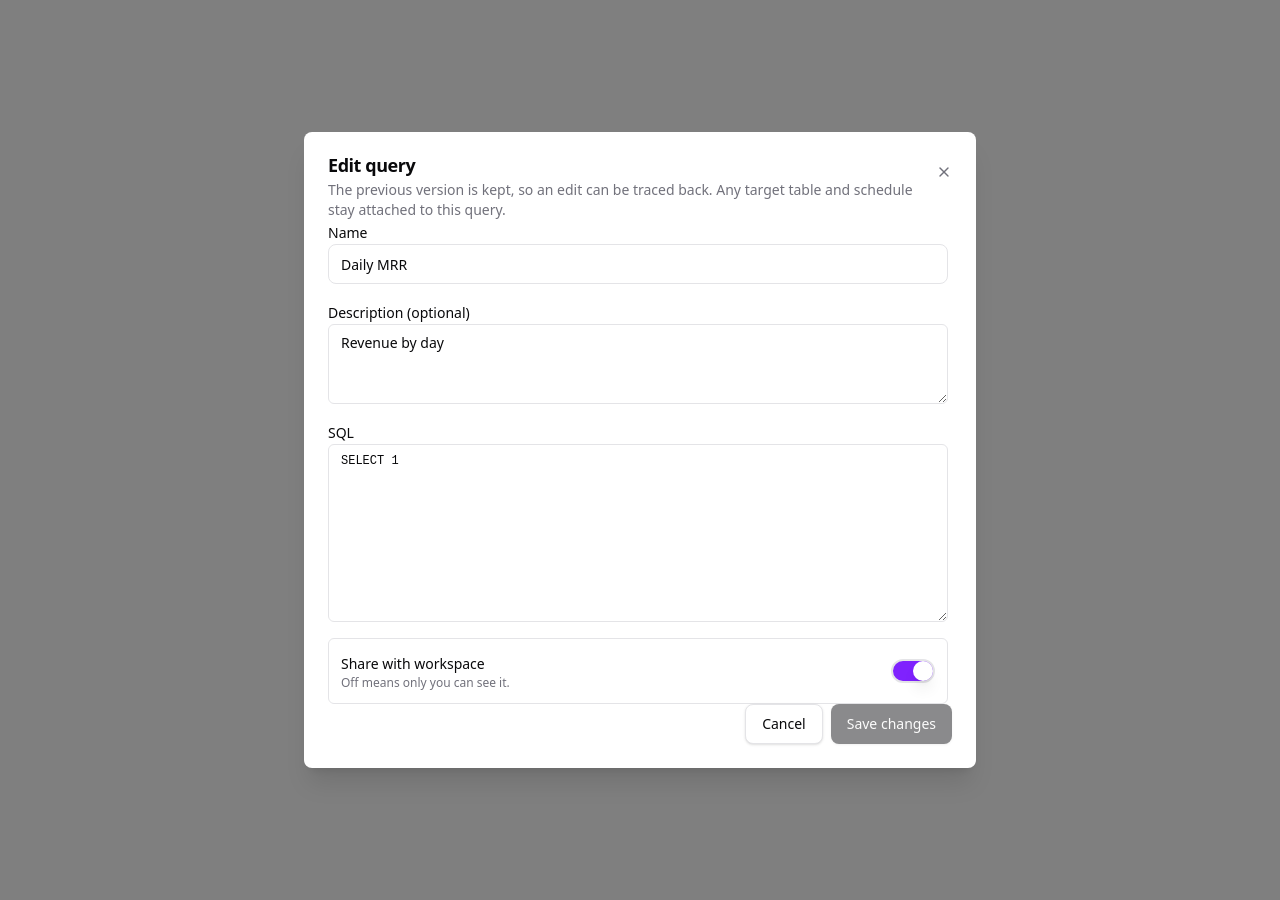
Scenario: SavedQueryEditDialog › says the SQL edit needs approval when the query is on a schedule
Check: the text "this query runs on a schedule" is not shown
Check: the button "Save changes" is shown, box [831,704,952,744]
Type " FROM orders" into the text box labelled "SQL" at point(638, 533), box [328,444,948,622]
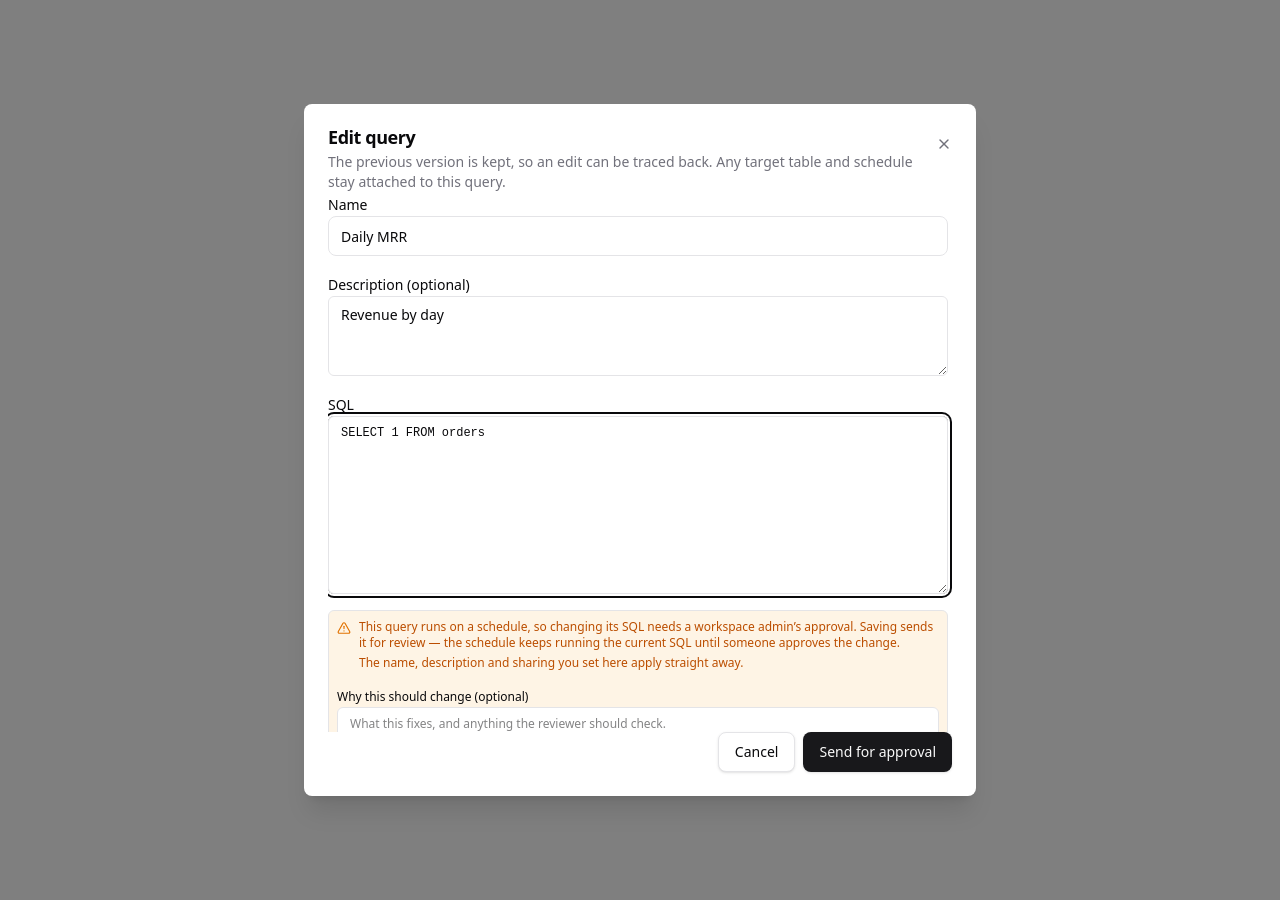
Check: the text "keeps running the current SQL" is shown, box [359,618,933,651]
Check: the button "Send for approval" is enabled, box [804,732,952,772]
Check: the button "Save changes" is gone
